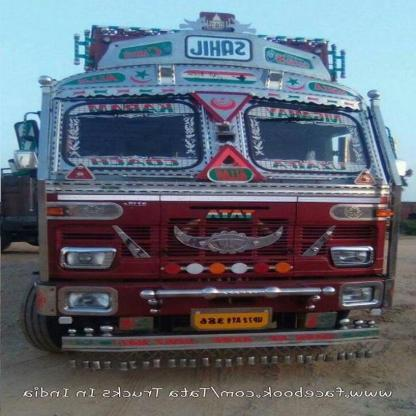truck: (14, 18, 400, 366)
